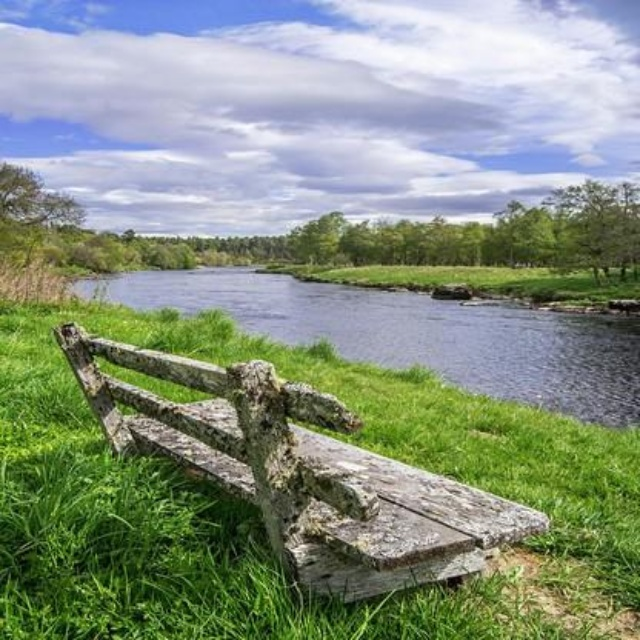obstacle: (38, 297, 545, 609)
